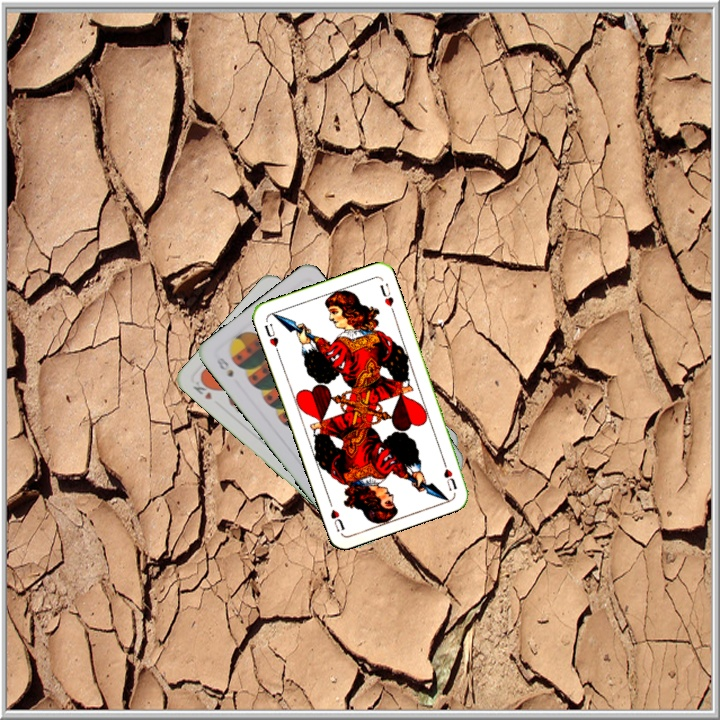HK: (189, 375, 217, 402)
HU: (438, 455, 460, 493), (260, 319, 282, 356)
S8: (212, 354, 236, 380)
